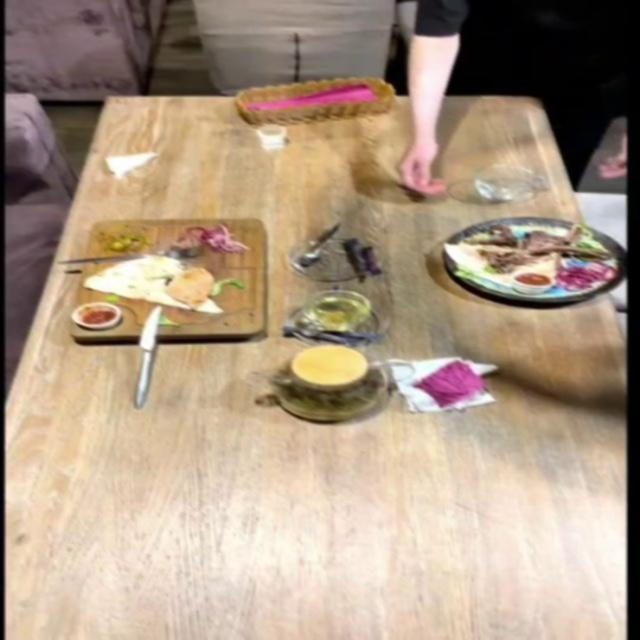meat: (414, 182, 611, 344), (71, 220, 270, 341)
tea: (267, 345, 385, 423)
